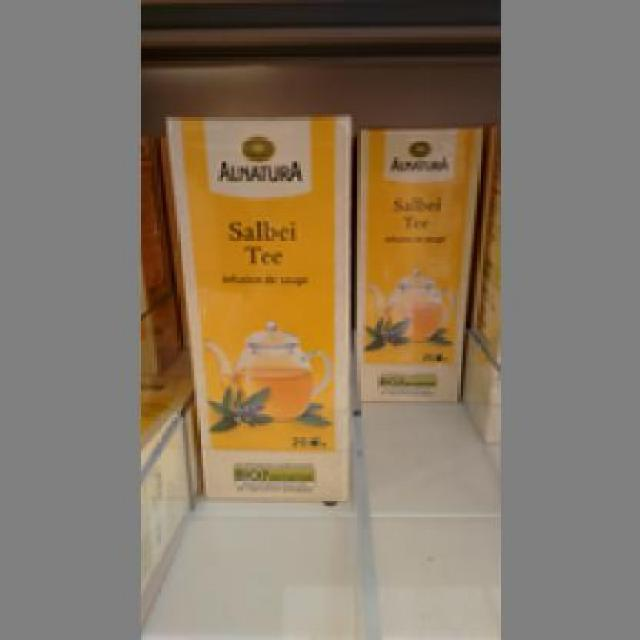Tea: (160, 106, 351, 500), (351, 123, 480, 400)
